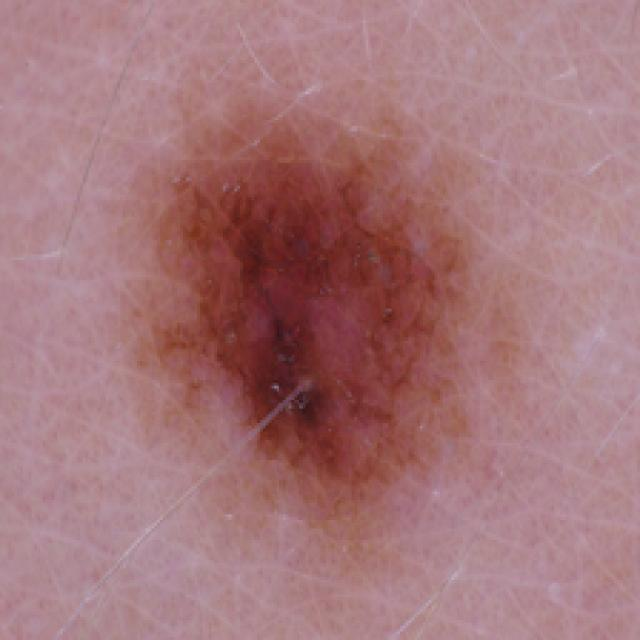non-cancer: (150, 148, 459, 488)
